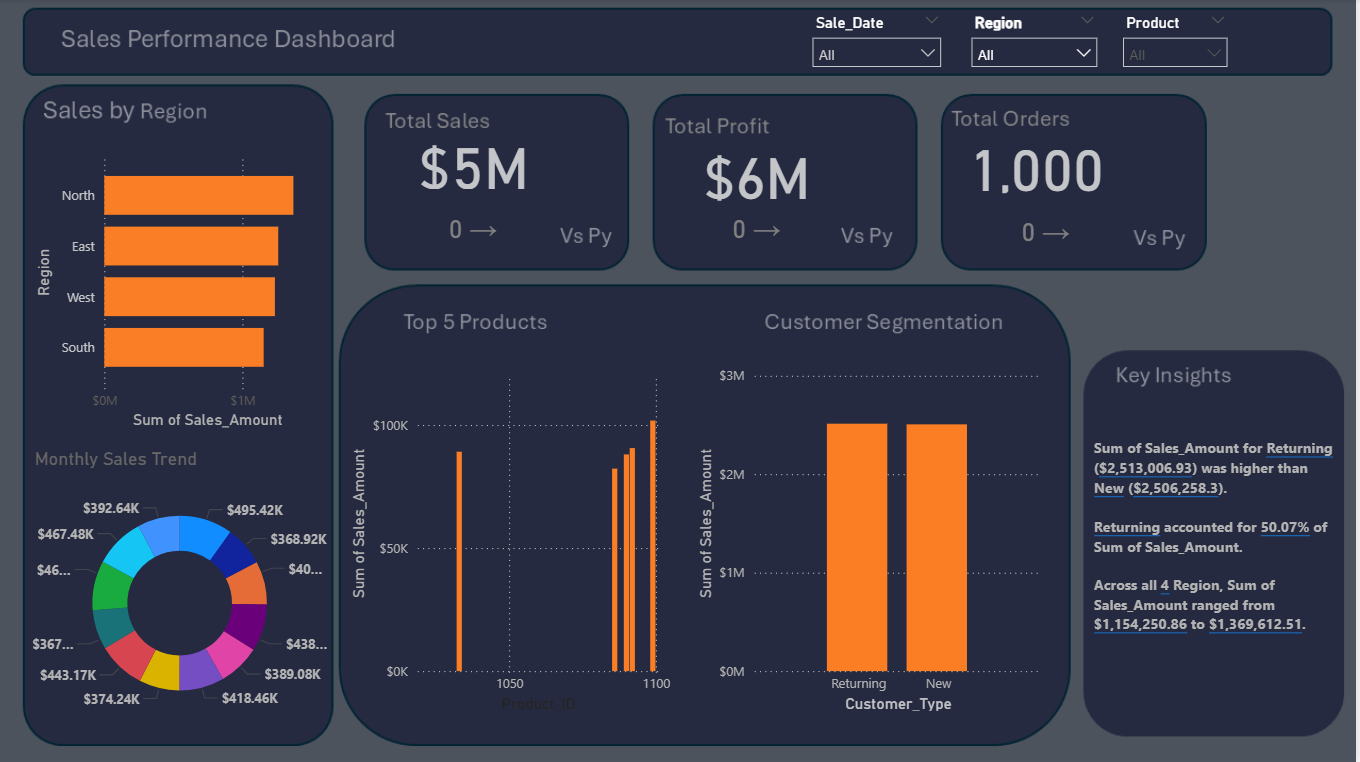

The page's visual inventory and layout, read from the dashboard file:
{"tool":"powerbi","page":{"name":"Page 3","canvas":[1280,720],"ordinal":2},"visuals":[{"type":"card","fields":{"Values":["Sales_data.Total Sales"]},"box":[361.9,121.1,174.1,62.1],"z":0},{"type":"card","fields":{"Values":["Sales_data.Total Profit"]},"box":[631.4,128.7,168.1,66.6],"z":1000},{"type":"card","fields":{"Values":["Sales_data.Total Orders"]},"box":[897.9,121.1,160.5,66.6],"z":2000},{"type":"barChart","fields":{"Category":["Sales_data.Region"],"Y":["Sum(Sales_data.Sales_Amount)"]},"box":[31.8,133.3,281.6,274.1],"z":3000},{"type":"columnChart","fields":{"Category":["Sales_data.Product_ID"],"Y":["Sum(Sales_data.Sales_Amount)"]},"box":[328.6,339.2,311.9,334.6],"z":4000},{"type":"columnChart","fields":{"Category":["Sales_data.Customer_Type"],"Y":["Sum(Sales_data.Sales_Amount)"]},"box":[654.1,339.2,334.6,334.6],"z":5000},{"type":"card","fields":{"Values":["Sales_data.YoY Summary"]},"box":[387.6,193.8,122.7,43.9],"z":6000},{"type":"donutChart","title":"Monthly Sales Trend","fields":{"Y":["Sum(Sales_data.Sales_Amount)"],"Category":["Sales_data.Sale_Date.Variation.Date Hierarchy.Month"]},"box":[31.8,420.9,281.6,272.6],"z":7000},{"type":"card","fields":{"Values":["Sales_data.YoY Summary"]},"box":[654.1,193.8,122.7,43.9],"z":8000},{"type":"card","fields":{"Values":["Sales_data.YoY Summary"]},"box":[929.7,195.3,116.6,43.9],"z":9000},{"type":"slicer","fields":{"Values":["Sales_data.Sale_Date"]},"box":[758.6,9.1,140.8,56],"z":10000},{"type":"slicer","fields":{"Values":["Sales_data.Region"]},"box":[908.5,9.1,137.8,56],"z":11000},{"type":"slicer","fields":{"Values":["Sales_data.Product_Category"]},"box":[1050.9,9.1,118.1,56],"z":12000},{"type":"textbox","box":[1028.1,371,236.2,302.8],"z":12001}]}

Visuals, with their boxes in screenshot pixels (x1, y1, x2, y2), scaled from the page's 1280x720 canvas onto the 1360x762 screenshot:
card - Sales_data.Total Sales: 385 128 570 194
card - Sales_data.Total Profit: 671 136 849 207
card - Sales_data.Total Orders: 954 128 1125 199
barChart - Sales_data.Region x Sum(Sales_data.Sales_Amount): 34 141 333 431
columnChart - Sales_data.Product_ID x Sum(Sales_data.Sales_Amount): 349 359 681 713
columnChart - Sales_data.Customer_Type x Sum(Sales_data.Sales_Amount): 695 359 1050 713
card - Sales_data.YoY Summary: 412 205 542 252
"Monthly Sales Trend" donutChart: 34 445 333 734
card - Sales_data.YoY Summary: 695 205 825 252
card - Sales_data.YoY Summary: 988 207 1112 253
slicer - Sales_data.Sale_Date: 806 10 956 69
slicer - Sales_data.Region: 965 10 1112 69
slicer - Sales_data.Product_Category: 1117 10 1242 69
textbox: 1092 393 1343 713
